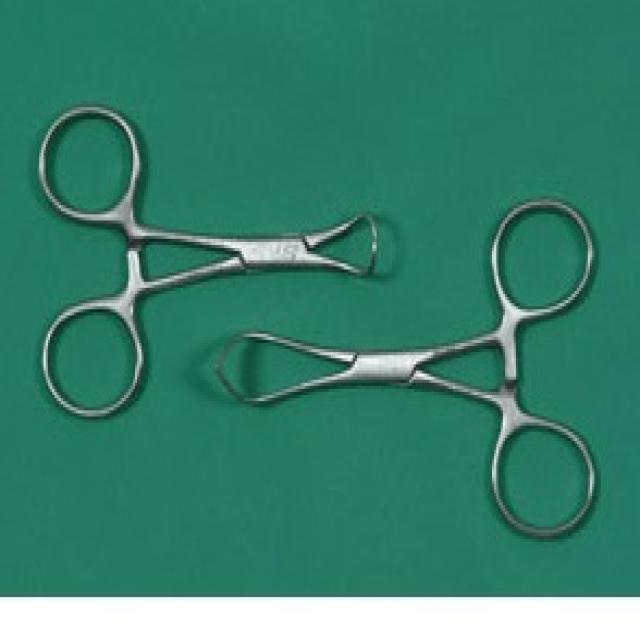Backhaus Towel Clamp: (215, 193, 610, 543), (31, 83, 382, 423)
